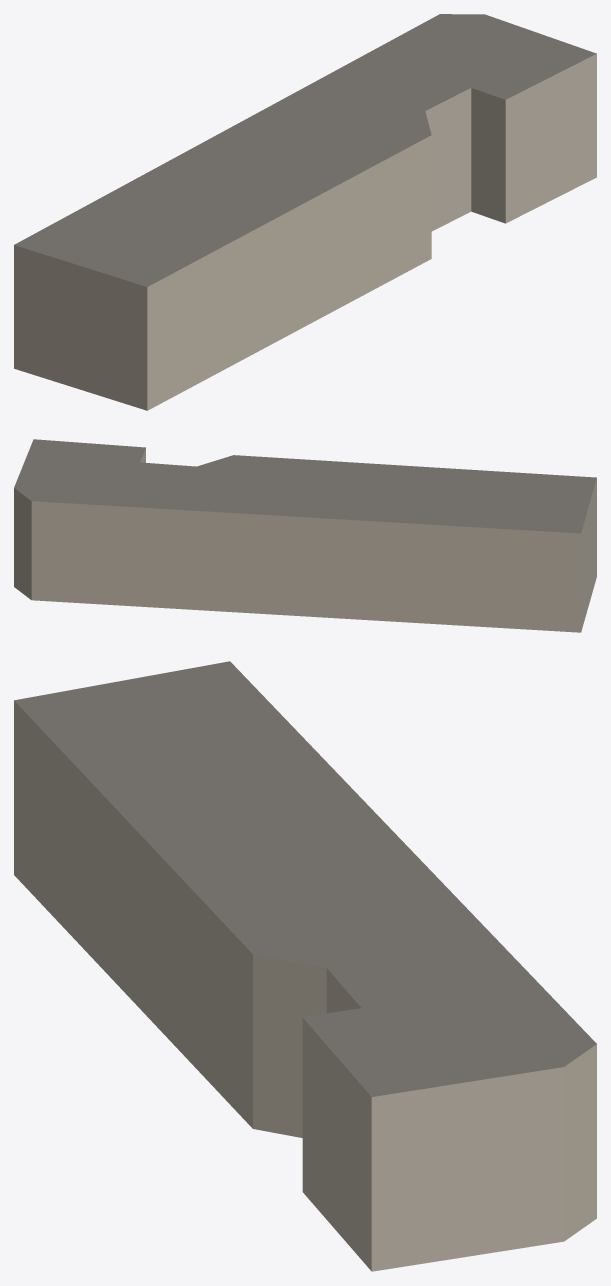
3 renders of one model, top to bottom at view 1: azimuth 30°, elevation 25°; view 2: azimuth 150°, elevation 25°; view 3: azimuth 270°, elevation 25°, orthographic. The views are drawn at different scales.
Parts seen in each view (by area): view 1: HP-w378107234; view 2: HP-w378107234; view 3: HP-w378107234.
Boxes of the visible parts, x1,y1,x2,y2 form: HP-w378107234: (14,14,596,410); HP-w378107234: (14,439,596,632); HP-w378107234: (14,661,596,1271).
Size of the model in its own units: 64.24 by 12 by 36.31.
